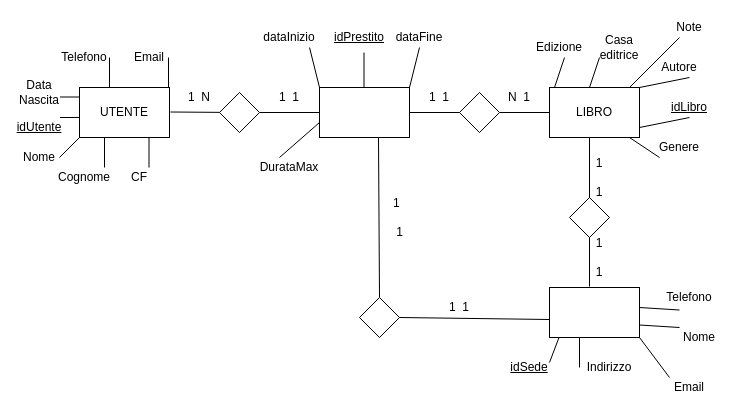
The diagram is 737 pixels wide and 414 high, and some of its shapes have lost their labels. The shapes that lost their labels are listed below. From the top down, each one's centre as x and y in pixels, then its label:
(364,112): PRESTITO
(594,312): SEDE
